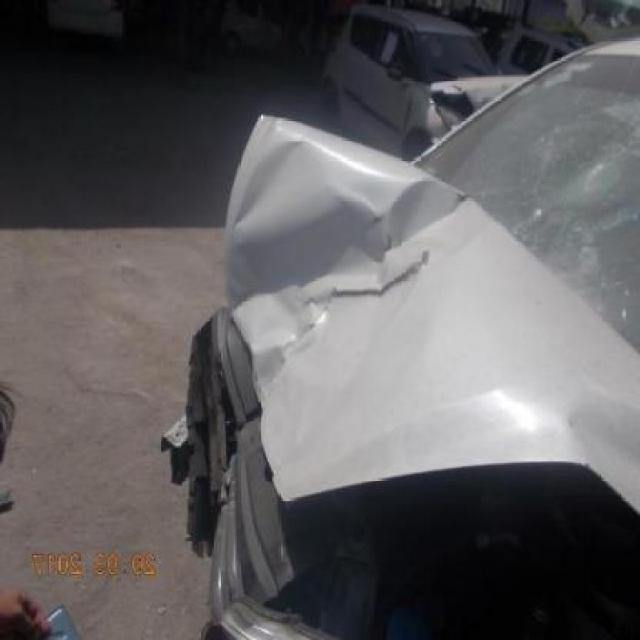damage: (215, 115, 475, 363), (538, 102, 632, 244)
